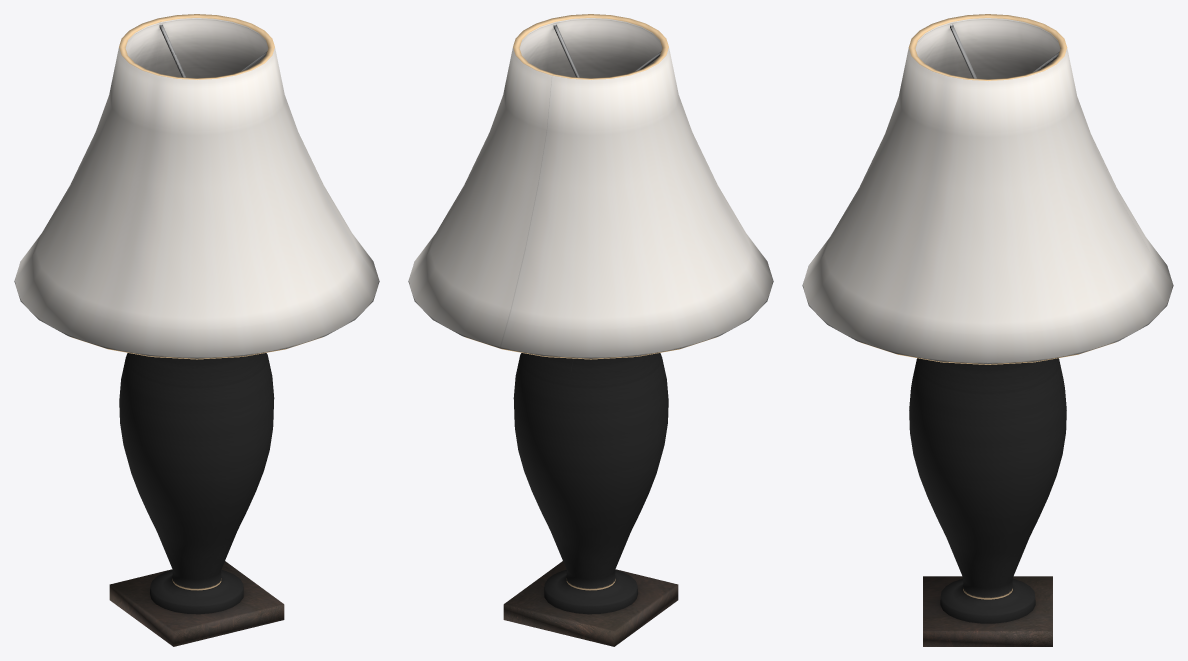
Rendered from lampara.obj.
3 renders of one model, left to right at view 1: azimuth 30°, elevation 25°; view 2: azimuth 150°, elevation 25°; view 3: azimuth 270°, elevation 25°, orthographic.
Visible parts, largest first — view 1: Lamp_Mesh; view 2: Lamp_Mesh; view 3: Lamp_Mesh.
Boxes of the visible parts, box(x1,y1,x2,y2) form: Lamp_Mesh: box(14, 14, 379, 646); Lamp_Mesh: box(408, 14, 773, 646); Lamp_Mesh: box(802, 14, 1173, 646).
Bounding box in the file's own units: 9.37 × 15.94 × 9.37.
1 material, 1 textured.
